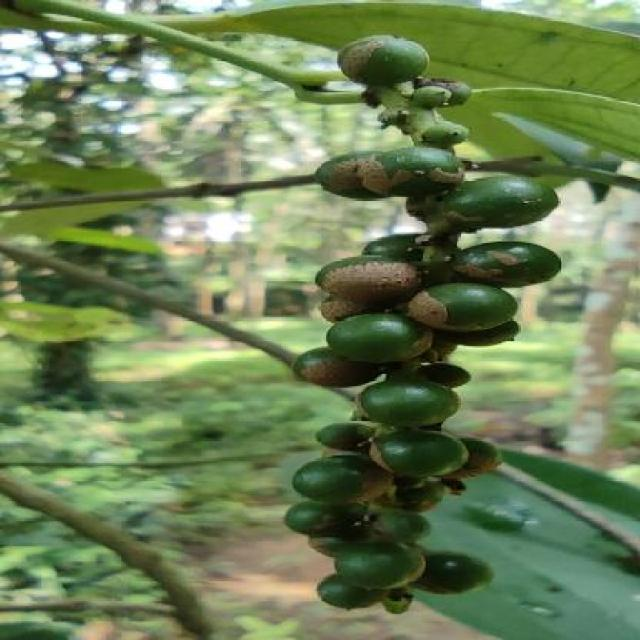UNRIPE: (300, 35, 565, 608)
